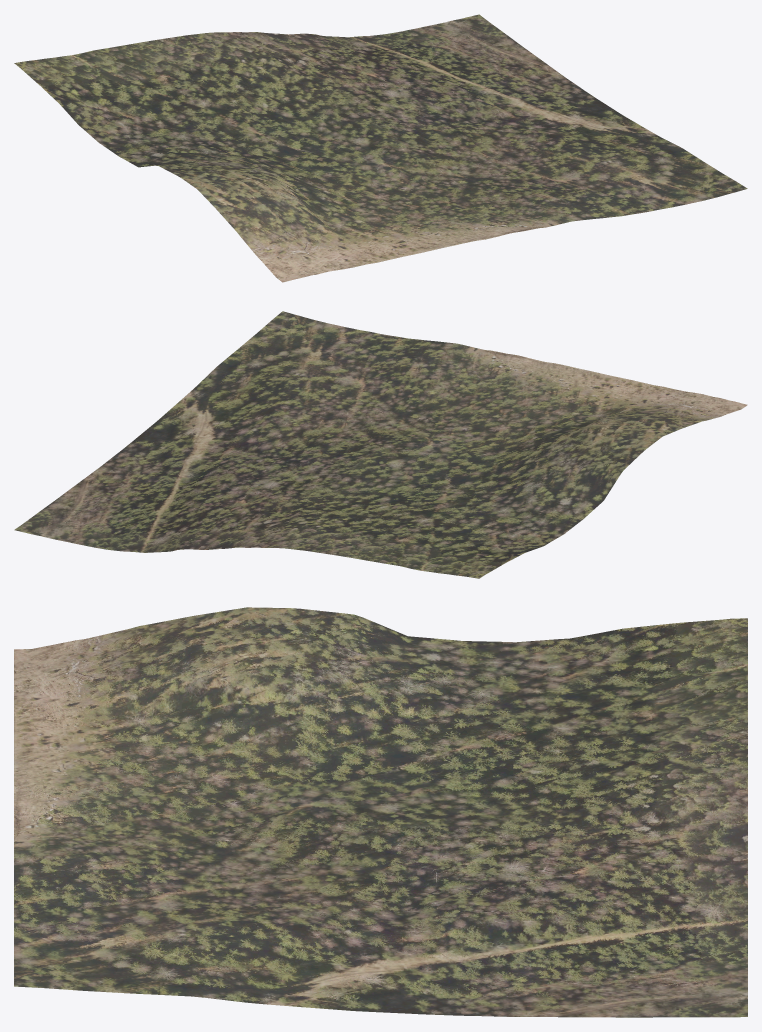
Rendered from CM_Terrain_24493735_6816312.fbx.
The picture shows the model from 3 angles, top to bottom: view 1: azimuth 30°, elevation 25°; view 2: azimuth 150°, elevation 25°; view 3: azimuth 270°, elevation 25°; orthographic projection. The views are drawn at different scales.
Visible parts, largest first — view 1: CM_Terrain_24493735_6816312_LOD0; view 2: CM_Terrain_24493735_6816312_LOD0; view 3: CM_Terrain_24493735_6816312_LOD0.
Boxes of the visible parts, bbox=[...] form: CM_Terrain_24493735_6816312_LOD0: bbox=[14, 14, 747, 282]; CM_Terrain_24493735_6816312_LOD0: bbox=[14, 311, 747, 578]; CM_Terrain_24493735_6816312_LOD0: bbox=[14, 607, 747, 1017].
Size of what is drawn, in the model's own units: 205 by 30.78 by 205.
